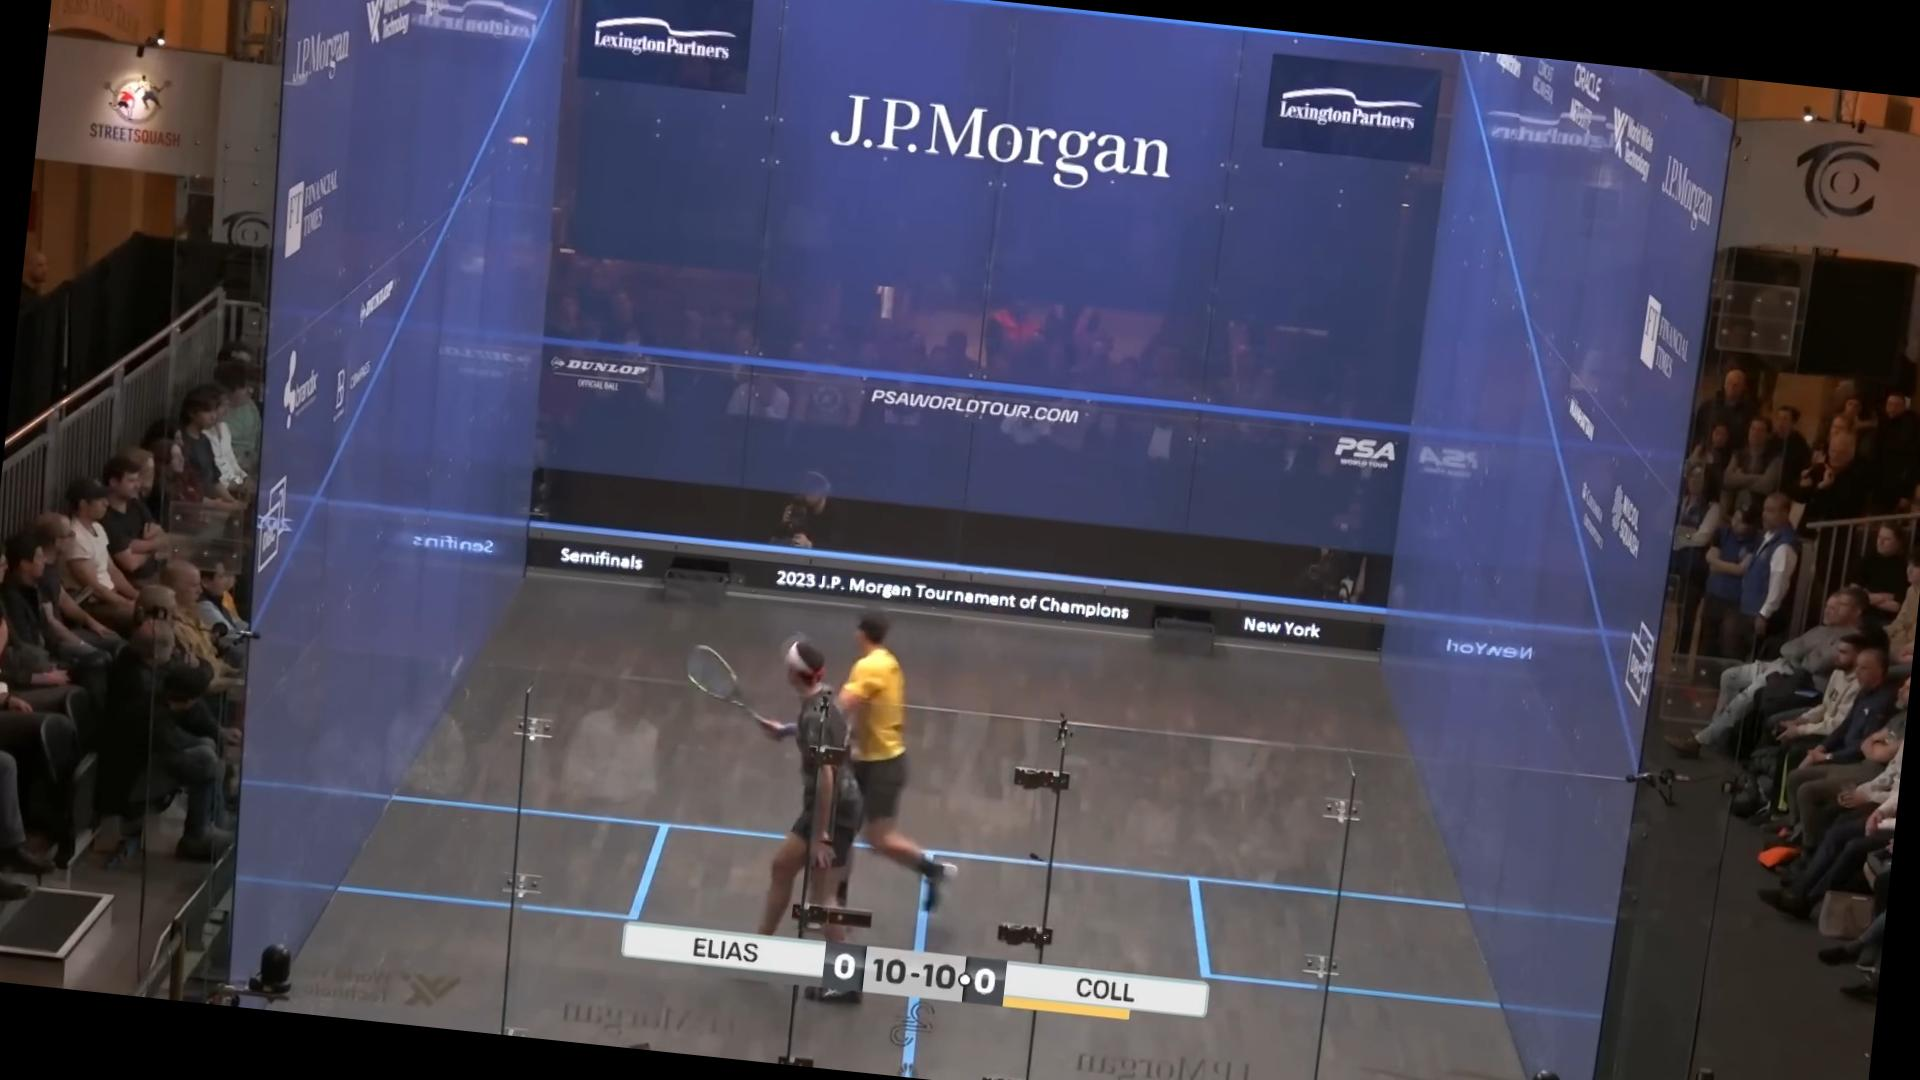Racket: (671, 632, 774, 736)
